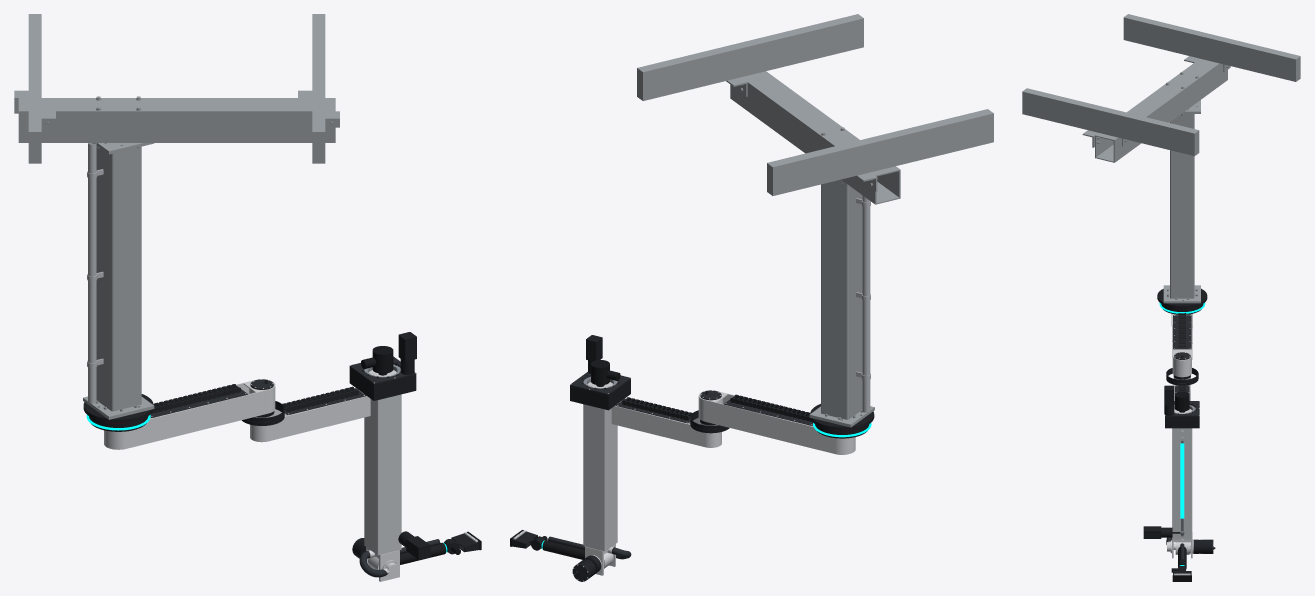
Rendered from clean_arm.glb.
The picture shows the model from 3 angles, left to right: view 1: azimuth 30°, elevation 25°; view 2: azimuth 150°, elevation 25°; view 3: azimuth 270°, elevation 25°; orthographic projection. The views are drawn at different scales.
Parts seen in each view (by area): view 1: CLN-HDR#1, CLN-COL#1, CLN-MS1#1, CLN-L1#1, CLN-L2#1, CLN-VRS#1, CLN-PUR#1, CLN-PUR#2, CLN-CRG#1, CLN-BAS#1, CLN-SGM#1, CLN-SWV#1 (+1 smaller); view 2: CLN-COL#1, CLN-PUR#2, CLN-PUR#1, CLN-HDR#1, CLN-MS1#1, CLN-L1#1, CLN-L2#1, CLN-VRS#1, CLN-CRG#1, CLN-BAS#1; view 3: CLN-PUR#1, CLN-PUR#2, CLN-COL#1, CLN-HDR#1, CLN-MS1#1, CLN-L1#1, CLN-L1C#1, CLN-BAS#1, CLN-CRG#1, CLN-SGM#2, CLN-MSL#1.
Part boxes in pixels (x1,y1,x2,y2): CLN-HDR#1: (18,98,335,142); CLN-COL#1: (83,143,154,419); CLN-MS1#1: (364,394,401,555); CLN-L1#1: (104,379,275,449); CLN-L2#1: (250,388,370,442); CLN-VRS#1: (88,143,96,403); CLN-PUR#1: (312,14,325,163); CLN-PUR#2: (28,14,41,163); CLN-CRG#1: (349,367,416,400); CLN-BAS#1: (83,394,153,431); CLN-SGM#1: (398,332,416,374); CLN-SWV#1: (361,346,393,375); CLN-COL#1: (809,179,874,427); CLN-PUR#2: (767,109,993,195); CLN-PUR#1: (637,14,863,100); CLN-HDR#1: (730,71,900,204); CLN-MS1#1: (583,404,617,551); CLN-L1#1: (698,390,855,454); CLN-L2#1: (611,399,721,447); CLN-VRS#1: (862,195,870,412); CLN-CRG#1: (570,379,630,410); CLN-BAS#1: (810,404,874,438); CLN-PUR#1: (1022,88,1199,156); CLN-PUR#2: (1123,14,1300,81); CLN-COL#1: (1163,100,1200,303); CLN-HDR#1: (1095,58,1227,162); CLN-MS1#1: (1172,428,1192,539); CLN-L1#1: (1171,313,1192,377); CLN-L1C#1: (1173,315,1191,349); CLN-BAS#1: (1157,288,1207,314); CLN-CRG#1: (1165,416,1199,428); CLN-SGM#2: (1143,526,1180,538); CLN-MSL#1: (1180,443,1184,518).
Bounding box in the file's own units: 3.21 × 3.58 × 2.24.
